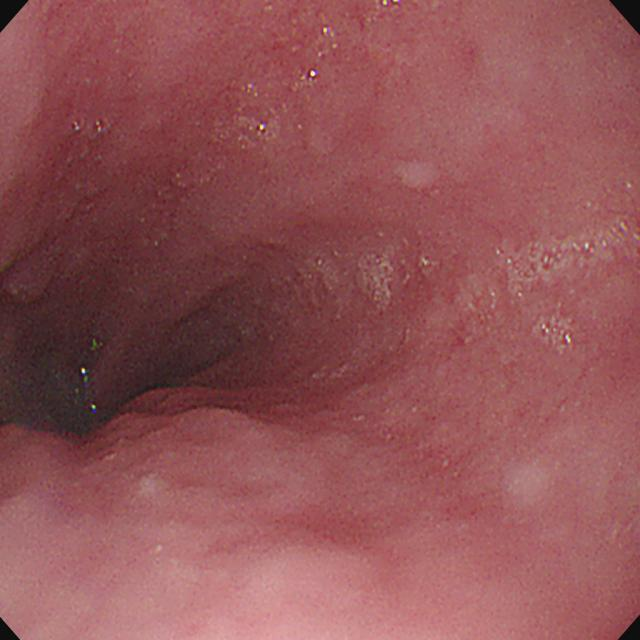J: (356, 257, 396, 311)
T: (496, 217, 640, 298), (536, 314, 577, 354)
